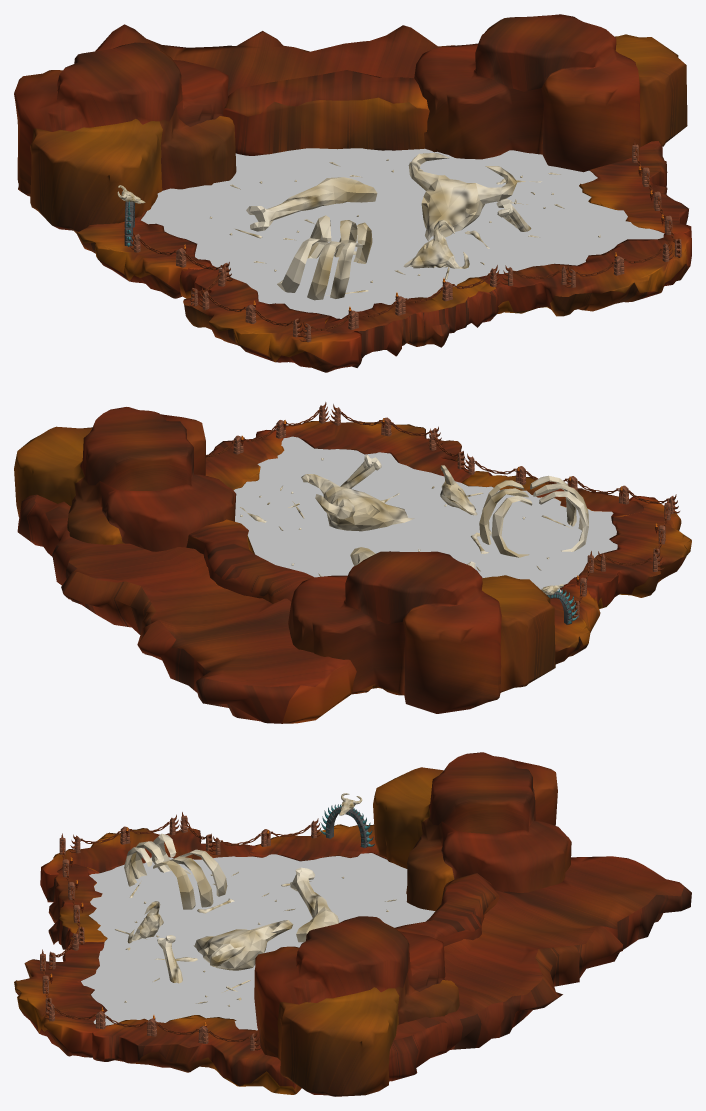
The picture shows the model from 3 angles, top to bottom: view 1: azimuth 30°, elevation 25°; view 2: azimuth 150°, elevation 25°; view 3: azimuth 270°, elevation 25°; orthographic projection. The views are drawn at different scales.
Visible parts, largest first — view 1: RockWalkway_15; view 2: RockWalkway_15; view 3: RockWalkway_15.
Boxes of the visible parts, <box> form: RockWalkway_15: <box>14,14,691,372</box>; RockWalkway_15: <box>14,402,691,723</box>; RockWalkway_15: <box>14,752,691,1096</box>.
Size of the model in its own units: 428 by 94.67 by 460.
